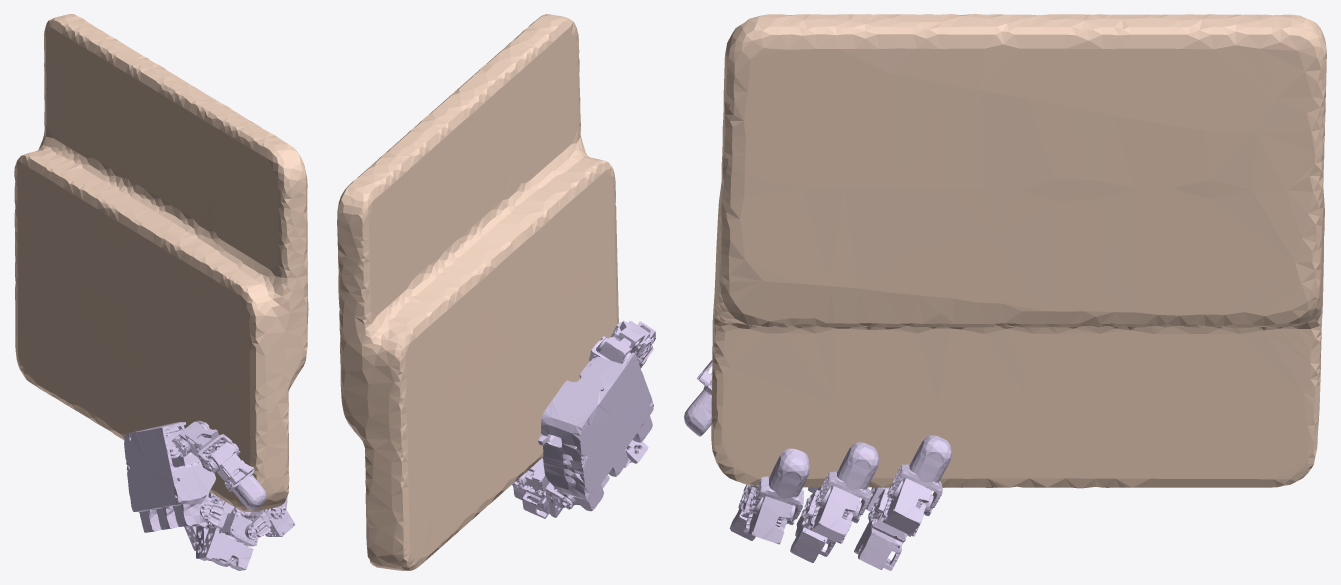
The picture shows the model from 3 angles, left to right: view 1: azimuth 30°, elevation 25°; view 2: azimuth 150°, elevation 25°; view 3: azimuth 270°, elevation 25°; orthographic projection. The views are drawn at different scales.
Parts seen in each view (by area): view 1: world, LEAP_hand; view 2: world, LEAP_hand; view 3: world, LEAP_hand.
Boxes of the visible parts, x1,y1,x2,y2 form: world: [14, 14, 308, 511]; LEAP_hand: [124, 420, 295, 570]; world: [337, 14, 618, 570]; LEAP_hand: [512, 321, 655, 518]; world: [711, 14, 1326, 488]; LEAP_hand: [684, 360, 951, 570].
Bounding box in the file's own units: 0.1362 × 0.4728 × 0.4821.
